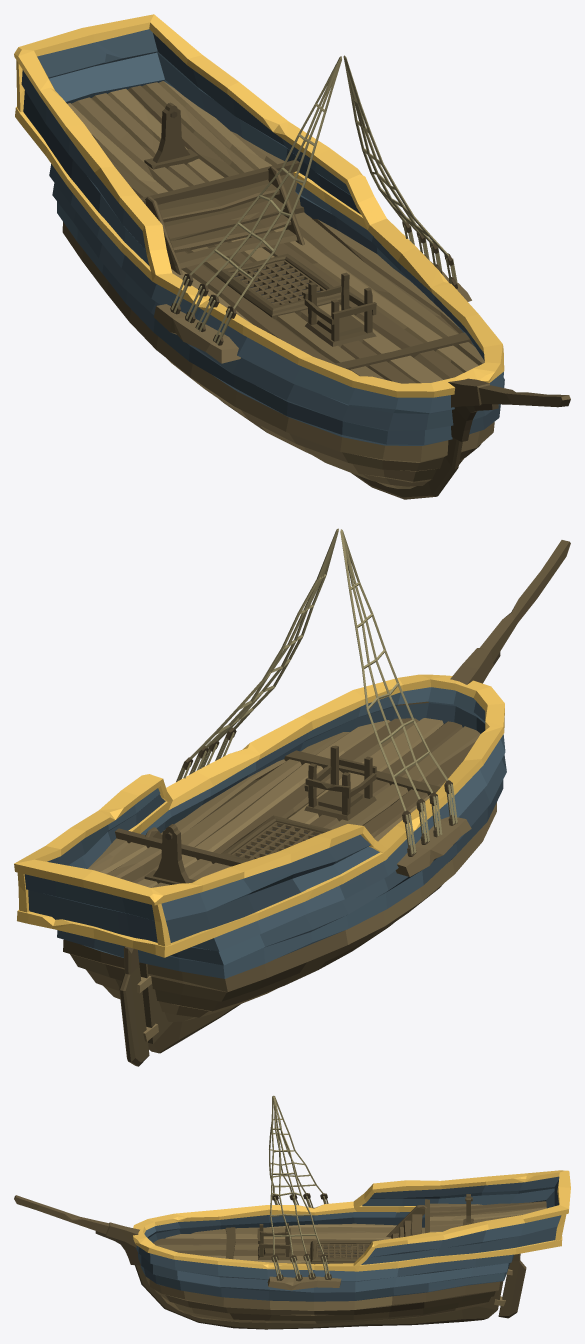
File: SmallShip_1.fbx
3 renders of one model, top to bottom at view 1: azimuth 30°, elevation 25°; view 2: azimuth 150°, elevation 25°; view 3: azimuth 270°, elevation 25°, orthographic. The views are drawn at different scales.
Visible parts, largest first — view 1: Cube.002; view 2: Cube.002; view 3: Cube.002.
Boxes of the visible parts, left/top/right/bottom form: Cube.002: left=14, top=14, right=570, bottom=499; Cube.002: left=14, top=528, right=570, bottom=1066; Cube.002: left=14, top=1095, right=570, bottom=1329.
Bounding box in the file's own units: 542 × 816 × 1760.
